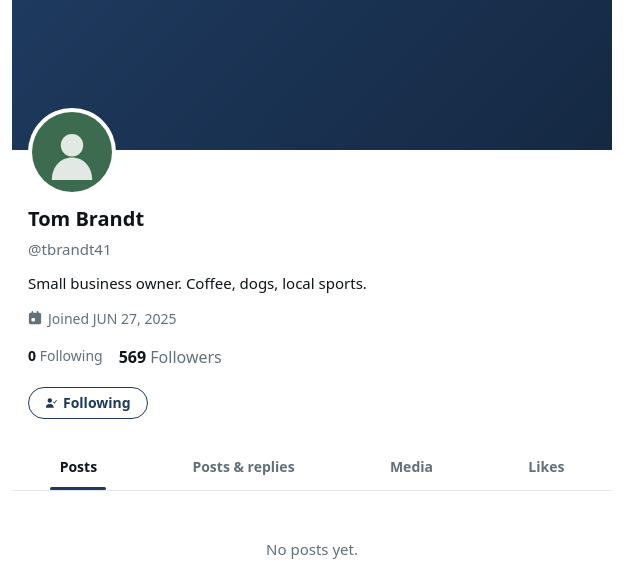
Profile — follow button reflects PERSISTED state (CR-002, story 02 AC1) › tapping an already-followed account UNFOLLOWS it — never a phantom +1
Click the button with test id "follow-button" at (88, 403), box [28,386,148,419]
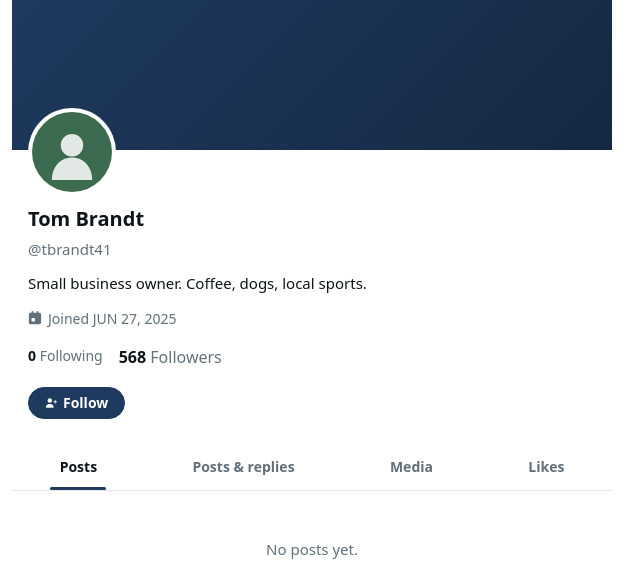
expect the button with test id "follow-button" reads "Follow": met, box [28,386,125,419]
